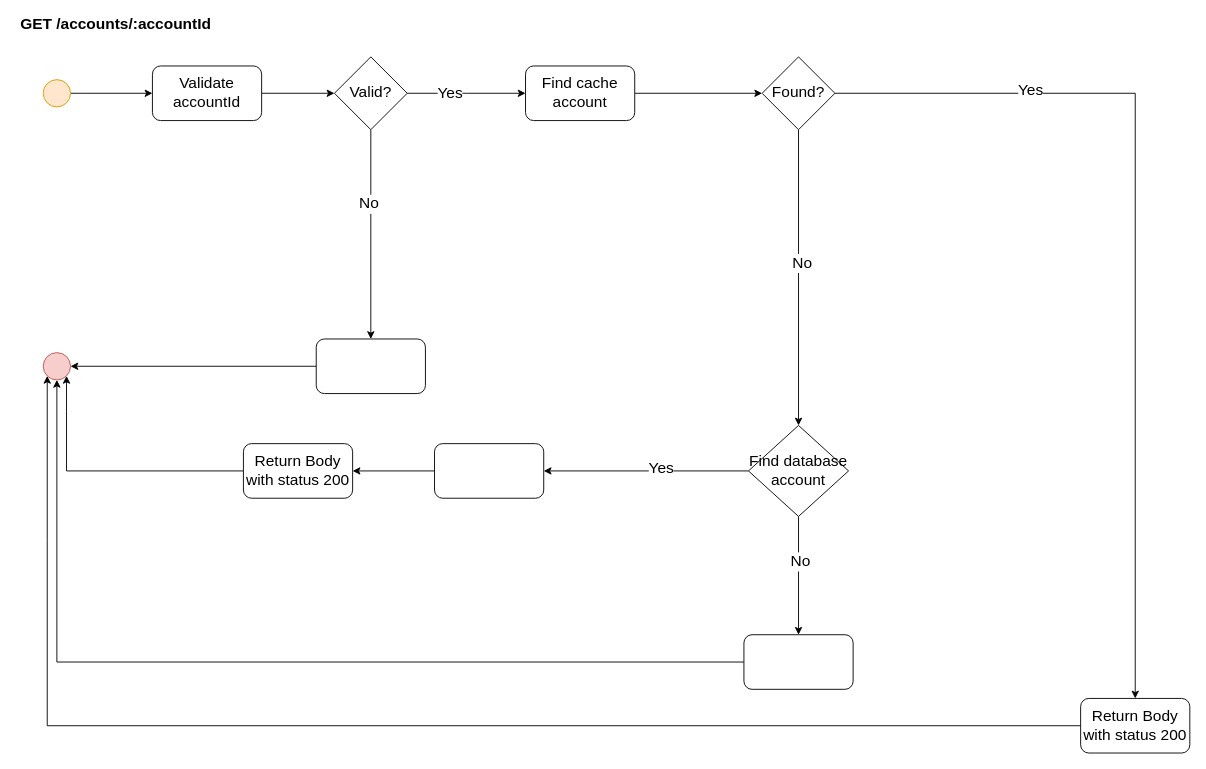
Image size: 1206x769. Some labels were removed from this diagram. The centre of each missing label's shape, as x and y in pixels:
"save cache" belongs at point 489,470.
"throws 400" belongs at point 370,366.
"throws 404" belongs at point 798,661.
